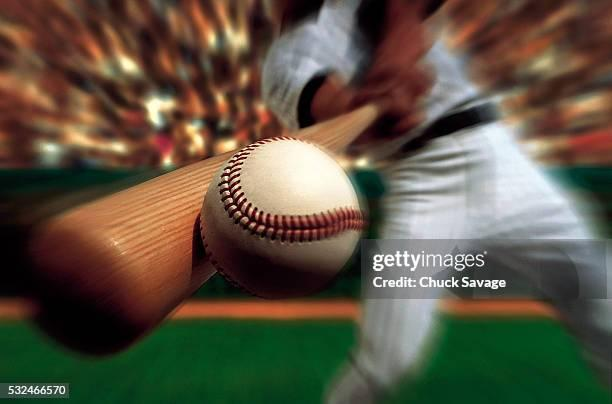baseball: (201, 137, 363, 288)
